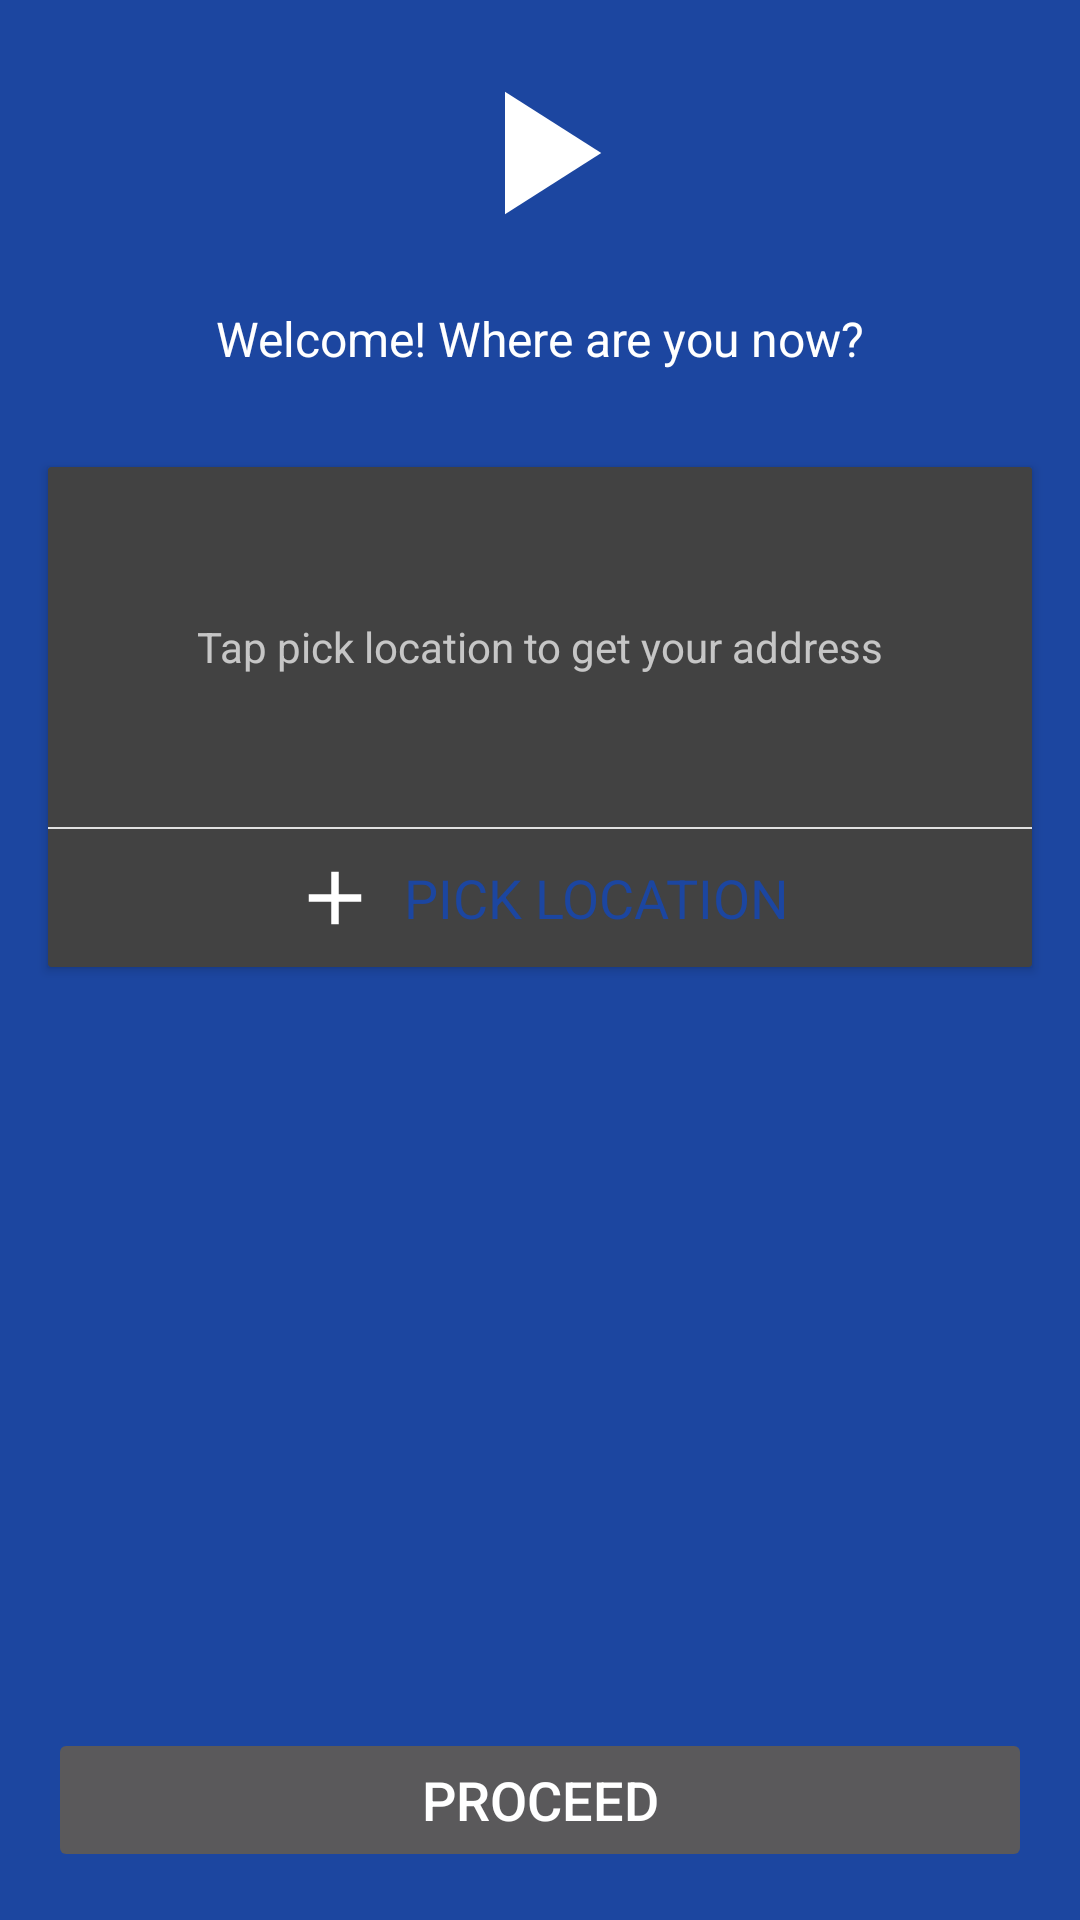

Where icons sit on this 1080w x 1920h app screen, as (x1, y1, x2, y2):
add: (308, 871, 362, 925)
start: (505, 92, 601, 214)
